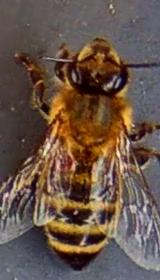varroa_mite: (51, 147, 77, 174)
